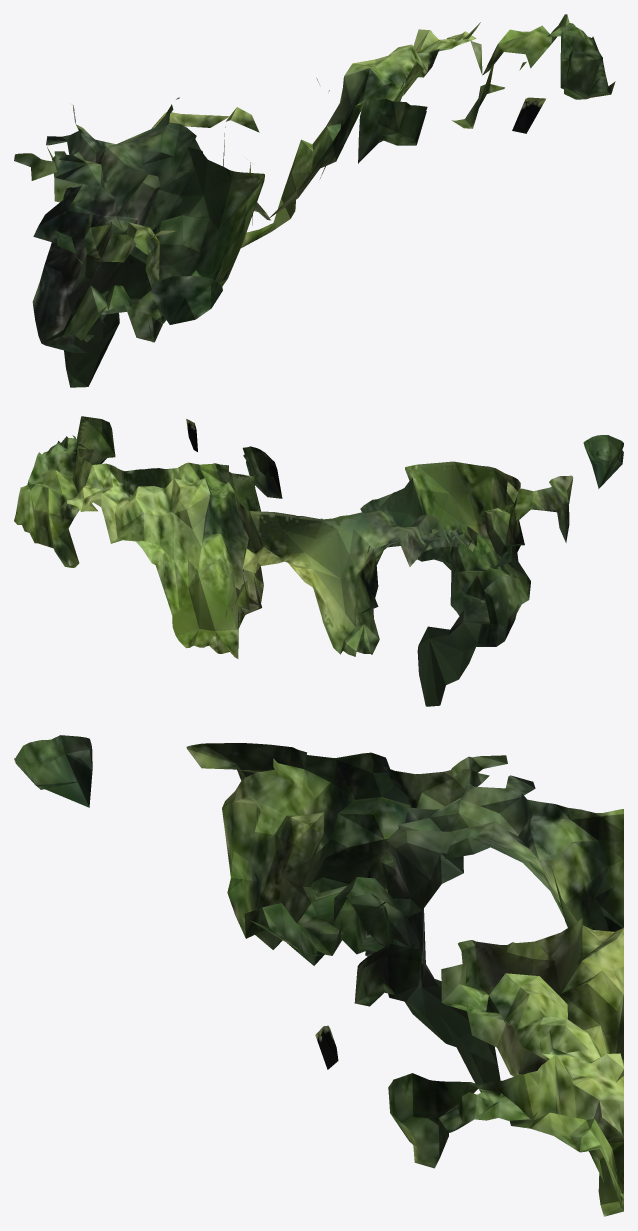
3 renders of one model, top to bottom at view 1: azimuth 30°, elevation 25°; view 2: azimuth 150°, elevation 25°; view 3: azimuth 270°, elevation 25°, orthographic. The views are drawn at different scales.
Size of the model in its own units: 49.86 by 19.16 by 34.68.
Materials: 2 (2 with a texture image).
